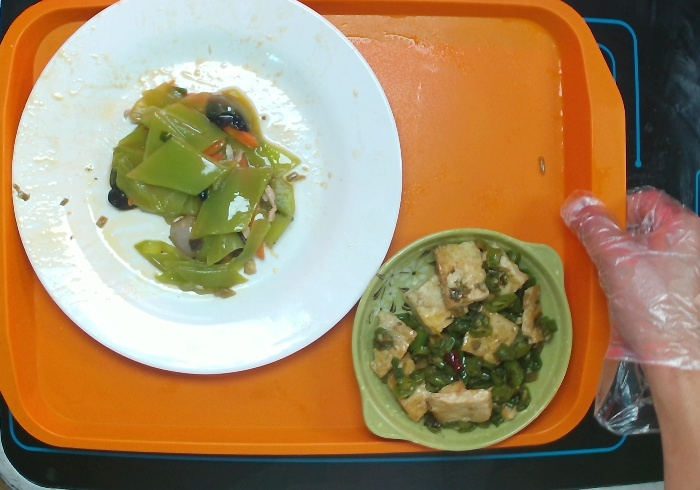NLDX-Da_Yuan_Pan: (9, 1, 405, 377)
NLDX-Lv_Hua_Shuang_Er_Die: (346, 226, 574, 454)
